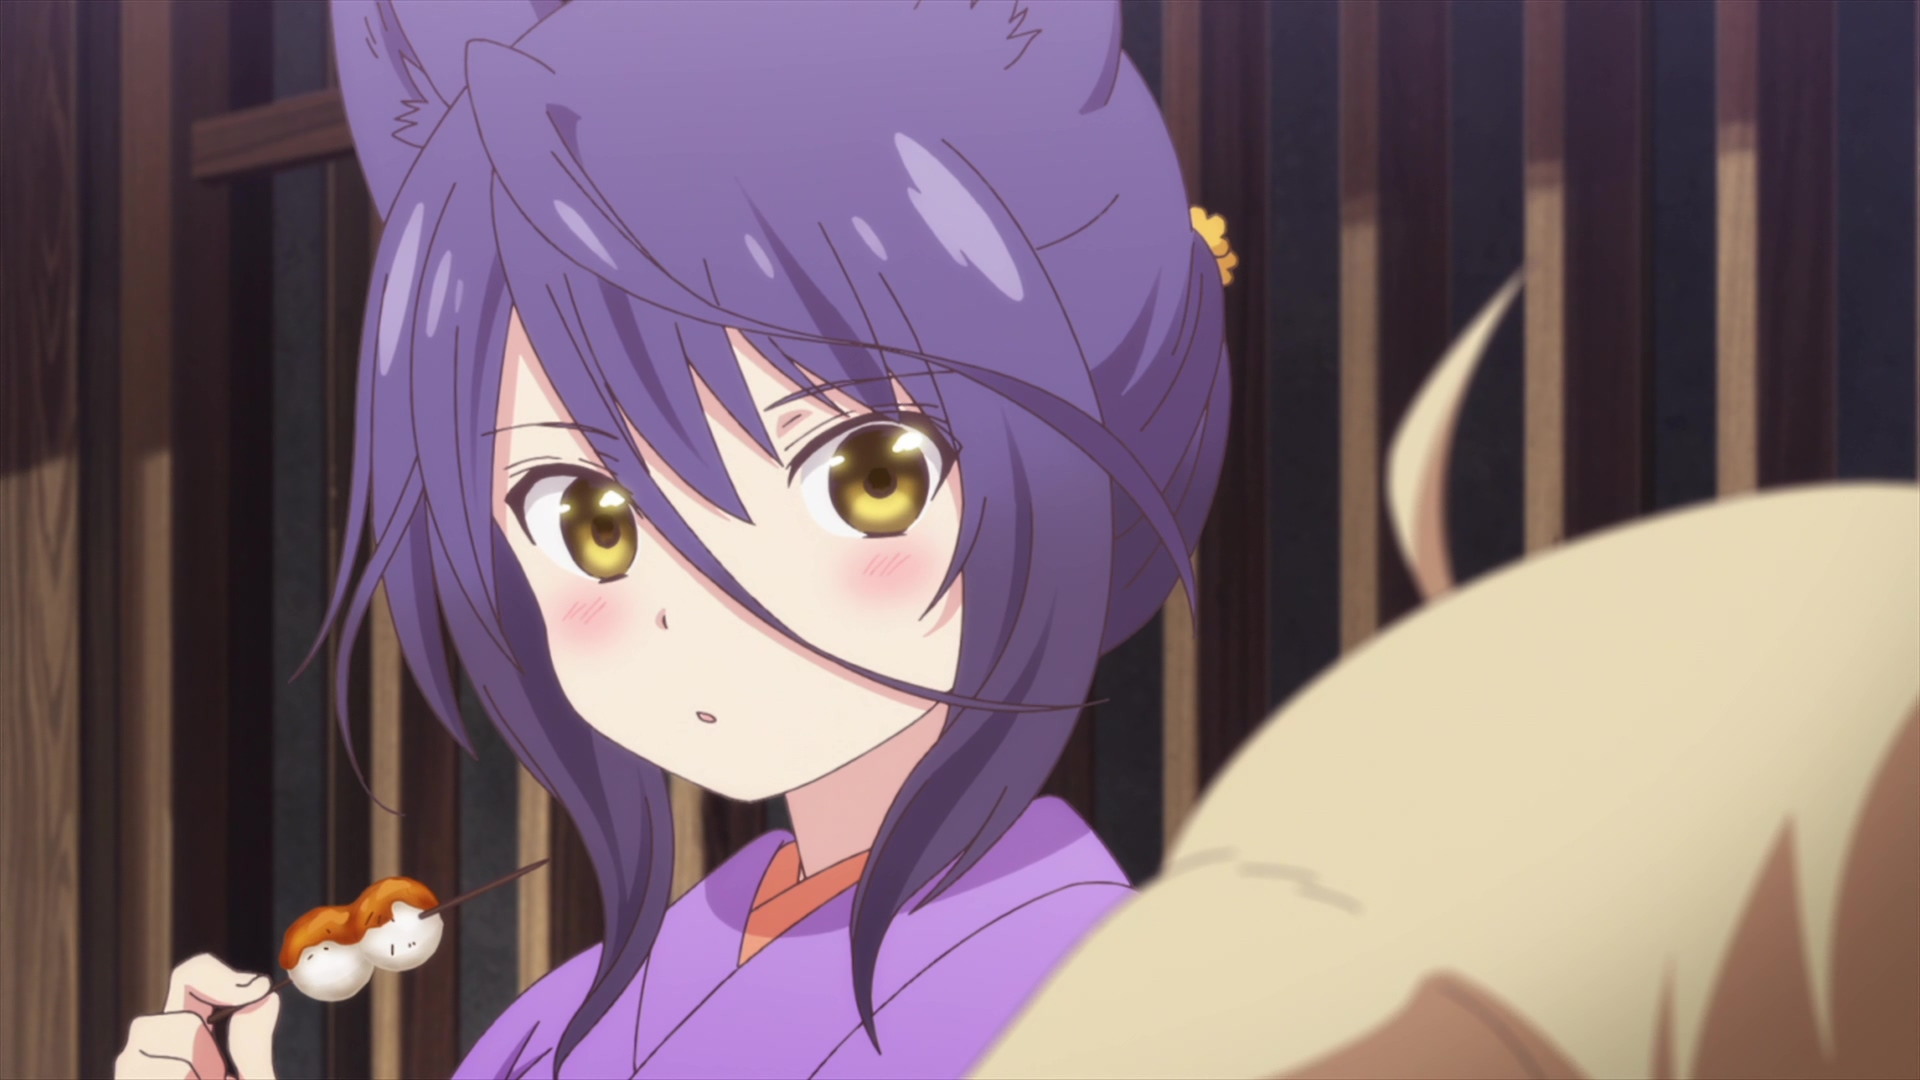皋: (295, 1, 1238, 1080)
